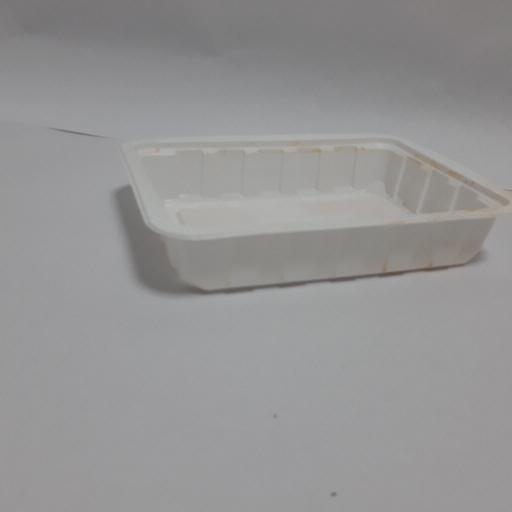Plastic_4: (120, 133, 511, 292)
